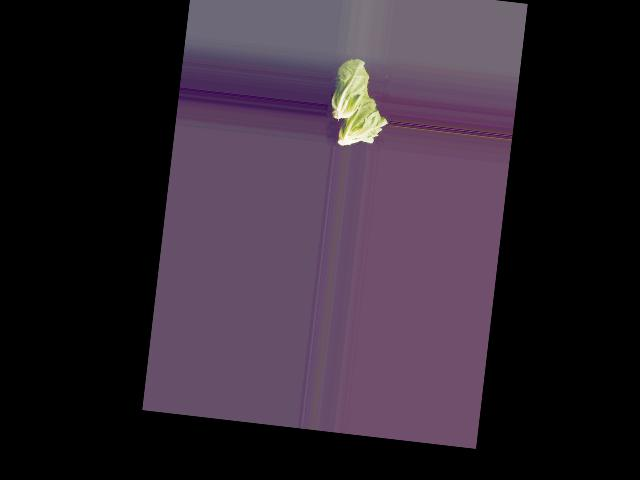lettuce: (330, 83, 390, 150)
